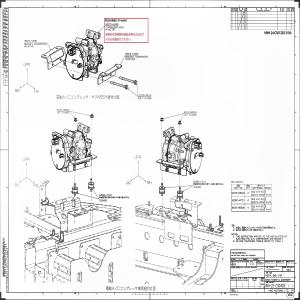PartNumber: (183, 110, 196, 114), (232, 198, 244, 202), (125, 52, 139, 55), (193, 180, 206, 183), (24, 39, 37, 42), (232, 206, 244, 209), (105, 23, 119, 25), (138, 94, 152, 96), (231, 192, 245, 194), (56, 109, 70, 111), (99, 194, 112, 196)
